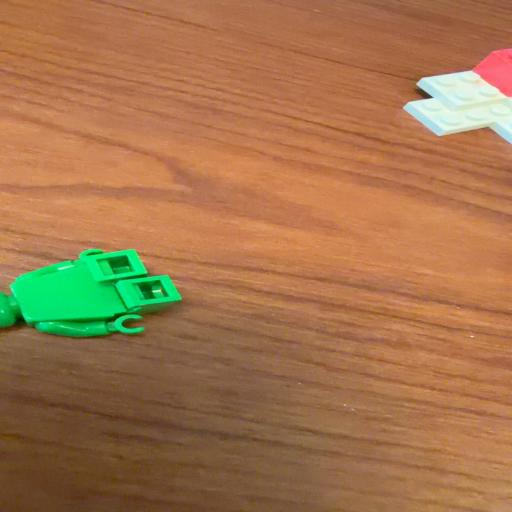UnoQ-minifig-detector: (0, 248, 182, 337)
